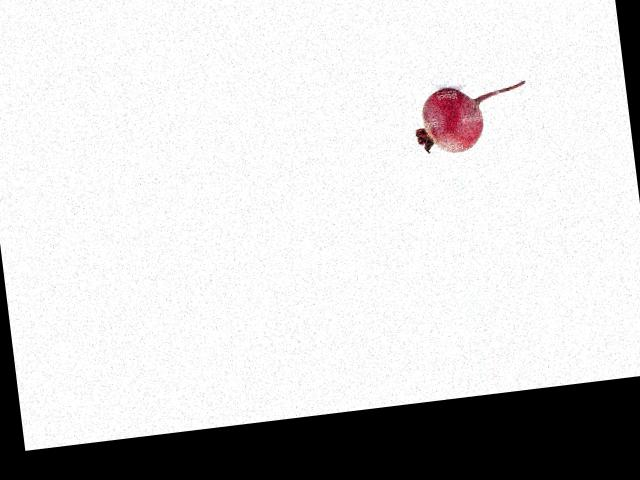beet: (410, 78, 531, 156)
